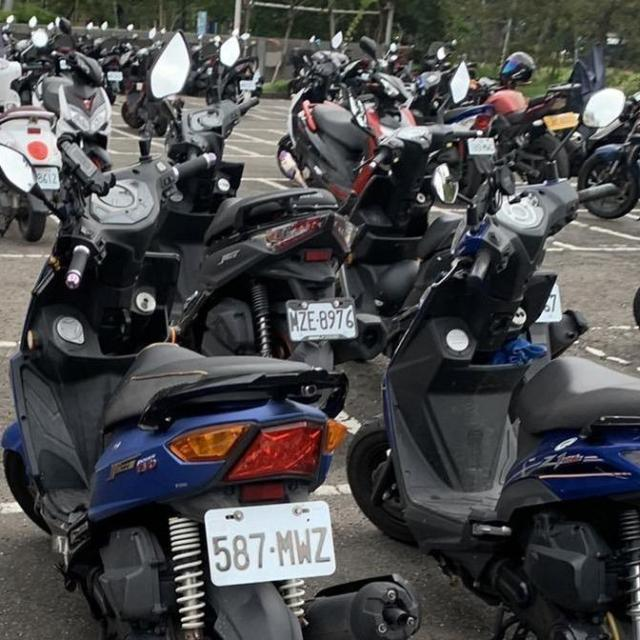W: (198, 498, 340, 586), (286, 297, 362, 343), (466, 133, 498, 157), (106, 68, 124, 82)
Y: (542, 110, 580, 132)
